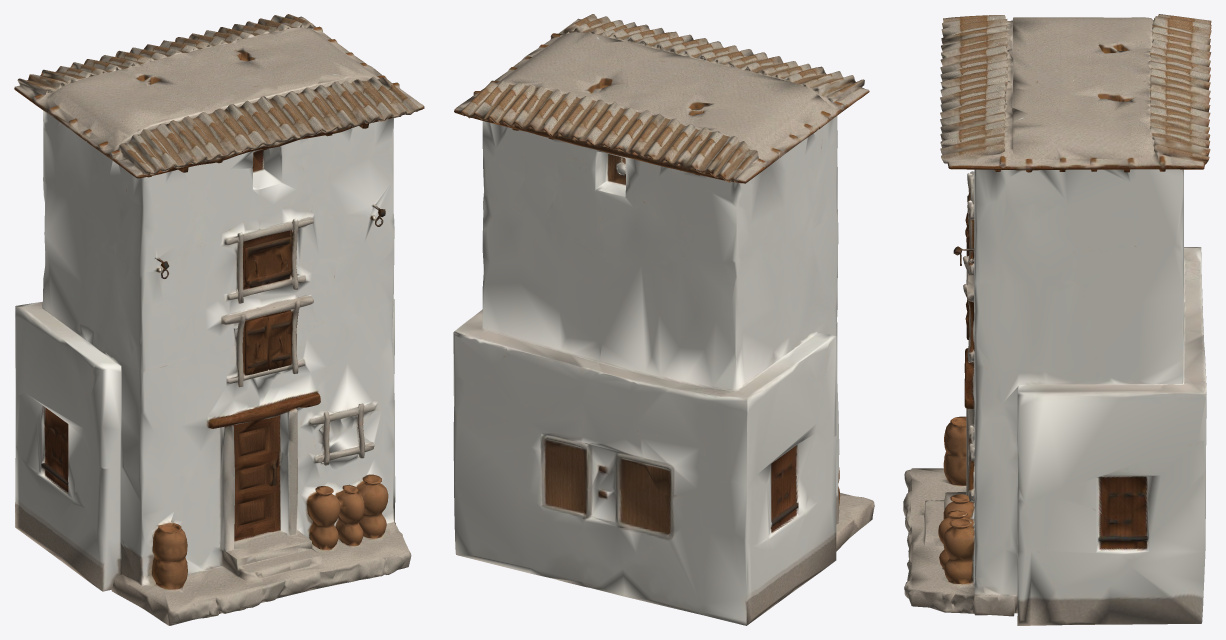
Rendered from punic_building.glb.
3 renders of one model, left to right at view 1: azimuth 30°, elevation 25°; view 2: azimuth 150°, elevation 25°; view 3: azimuth 270°, elevation 25°, orthographic. The views are drawn at different scales.
Bounding box in the file's own units: 1.25 × 1.9 × 1.1.
1 material, 1 textured.
